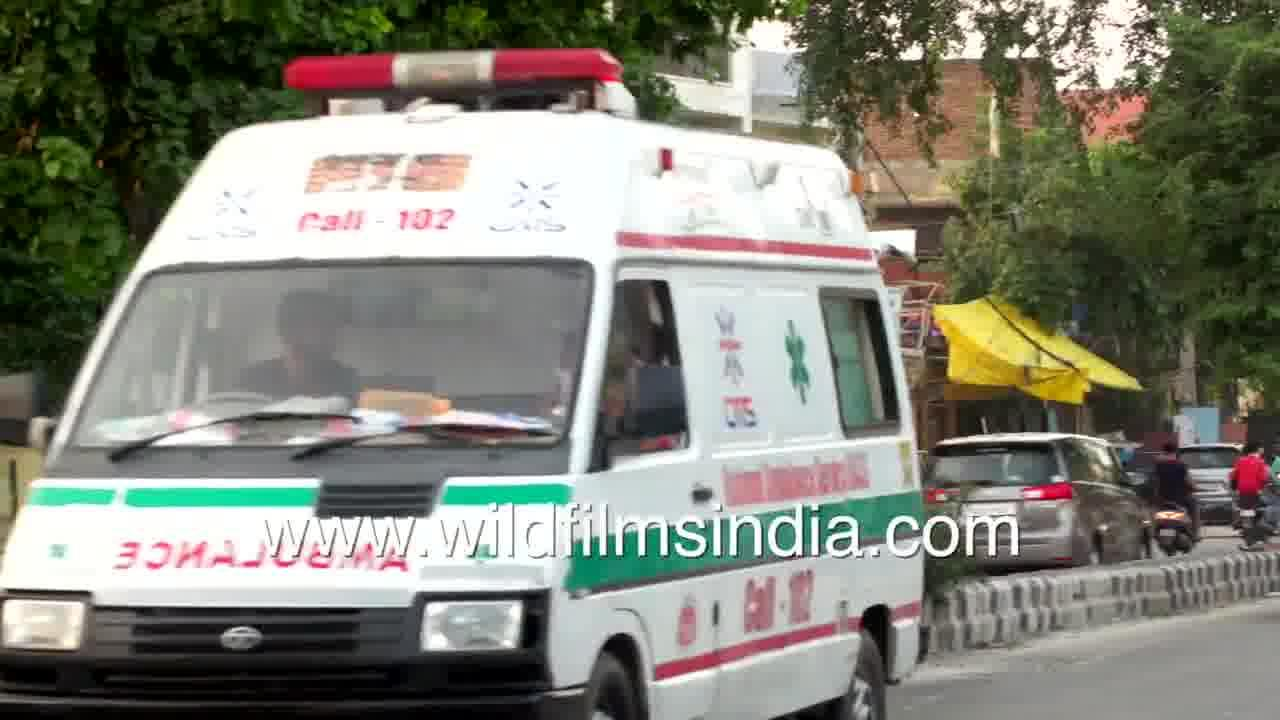AMBULANCE: (0, 4, 995, 502)
